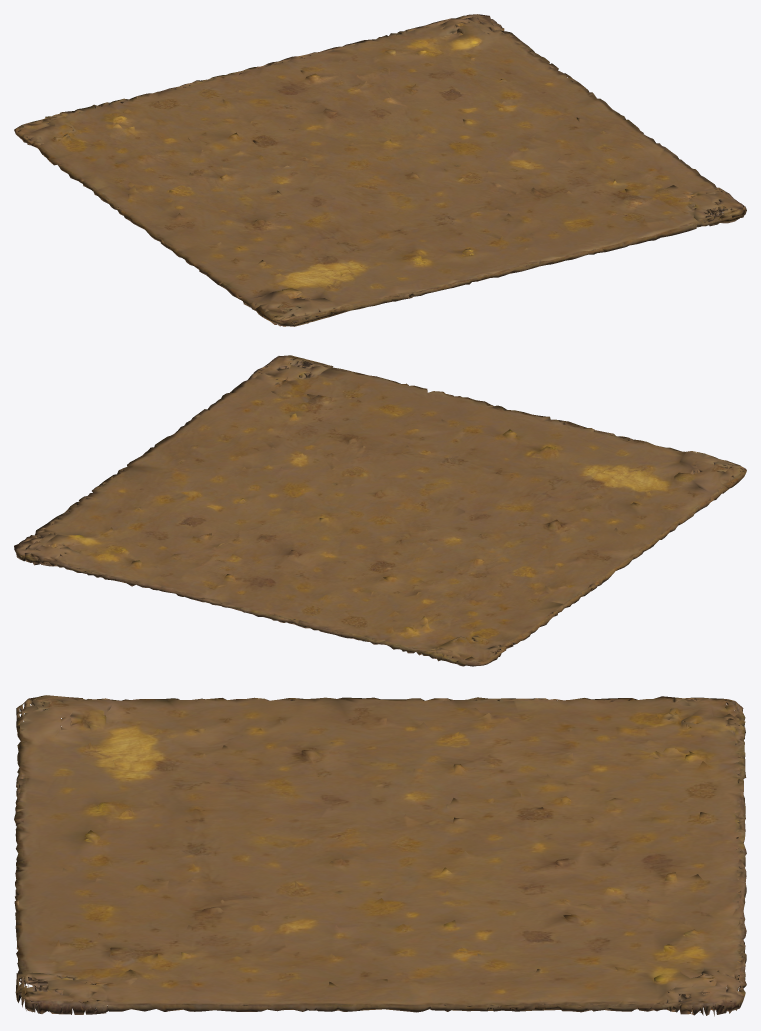
Rendered from Dirt_0510082024_texture.fbx.
The picture shows the model from 3 angles, top to bottom: view 1: azimuth 30°, elevation 25°; view 2: azimuth 150°, elevation 25°; view 3: azimuth 270°, elevation 25°; orthographic projection. The views are drawn at different scales.
Visible parts, largest first — view 1: Mesh1; view 2: Mesh1; view 3: Mesh1.
Part boxes in pixels (x1,y1,x2,y2): Mesh1: (14,14,746,326); Mesh1: (14,355,746,666); Mesh1: (14,695,746,1016).
Bounding box in the file's own units: 200 × 5.72 × 200.
Materials: 1 (1 with a texture image).
